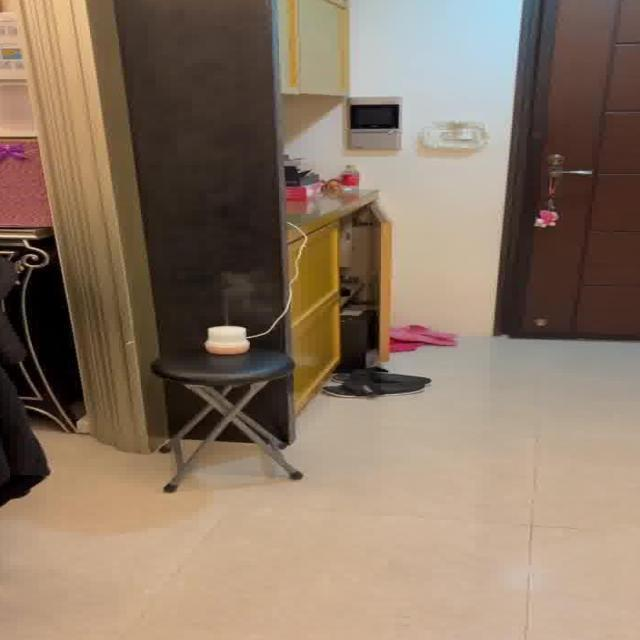fire: (204, 265, 270, 321)
